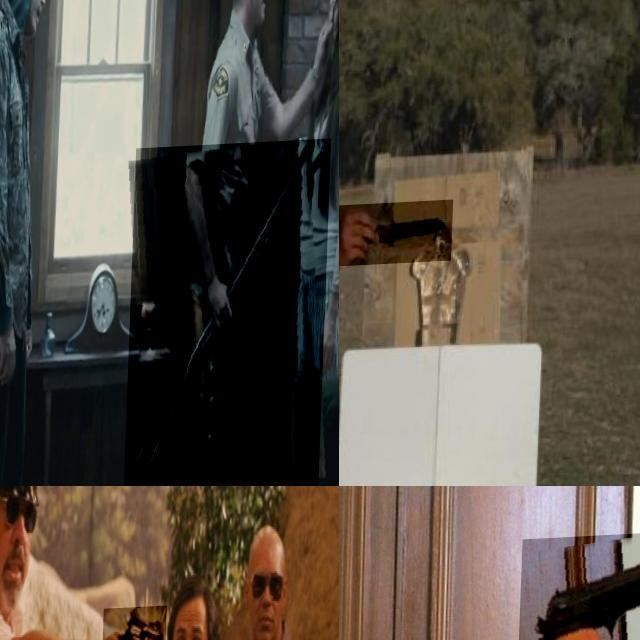-: (339, 203, 455, 269)
gun-knife-thesis - v11 Yolov5 augmented: (128, 144, 333, 486), (517, 534, 640, 640), (102, 608, 169, 640)
